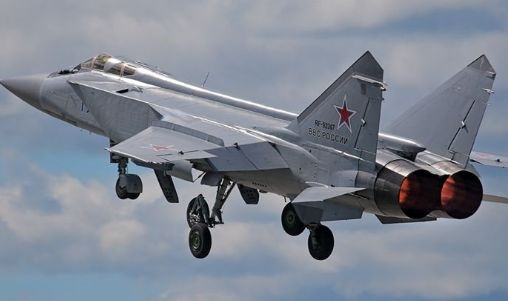airplane: (1, 40, 508, 263)
